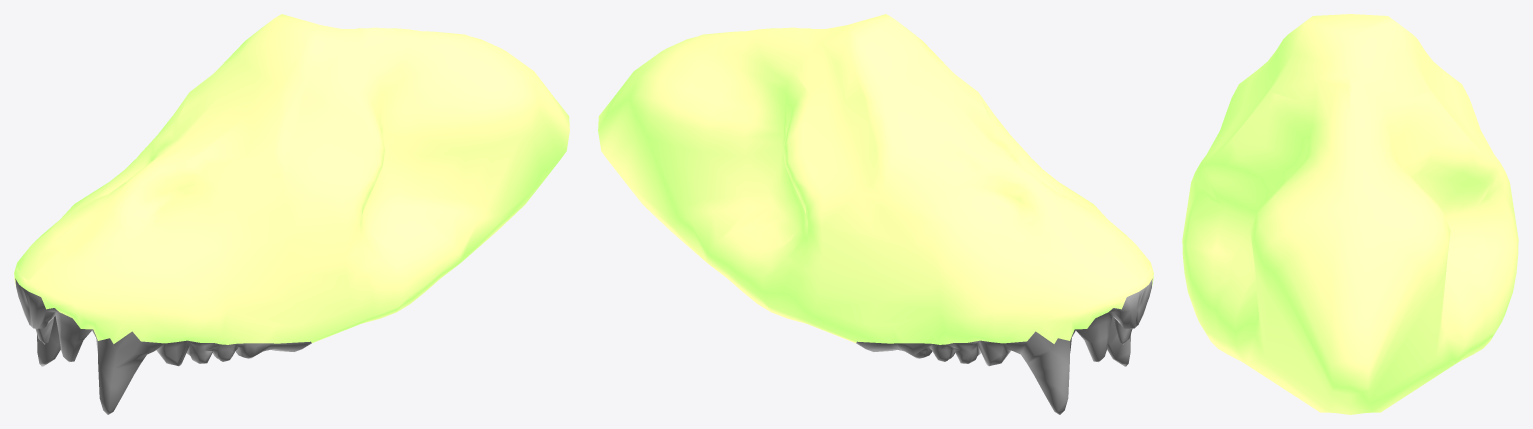
The model's file is monkey_skull.dae.
The picture shows the model from 3 angles, left to right: view 1: azimuth 30°, elevation 25°; view 2: azimuth 150°, elevation 25°; view 3: azimuth 270°, elevation 25°; orthographic projection. The views are drawn at different scales.
Parts seen in each view (by area): view 1: Skull; view 2: Skull; view 3: Skull.
Boxes of the visible parts, x1,y1,x2,y2 form: Skull: (14,14,569,414); Skull: (598,14,1153,414); Skull: (1182,14,1518,414).
Bounding box in the file's own units: 4.38 × 1.97 × 2.37.
